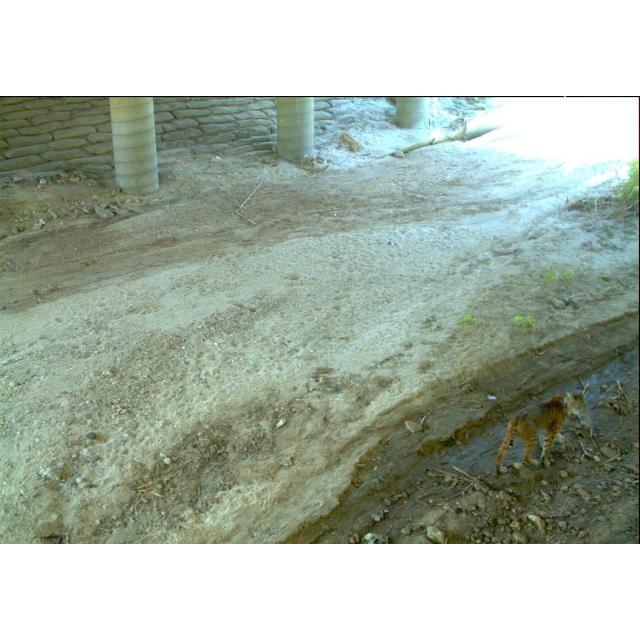animals: (492, 389, 588, 471)
